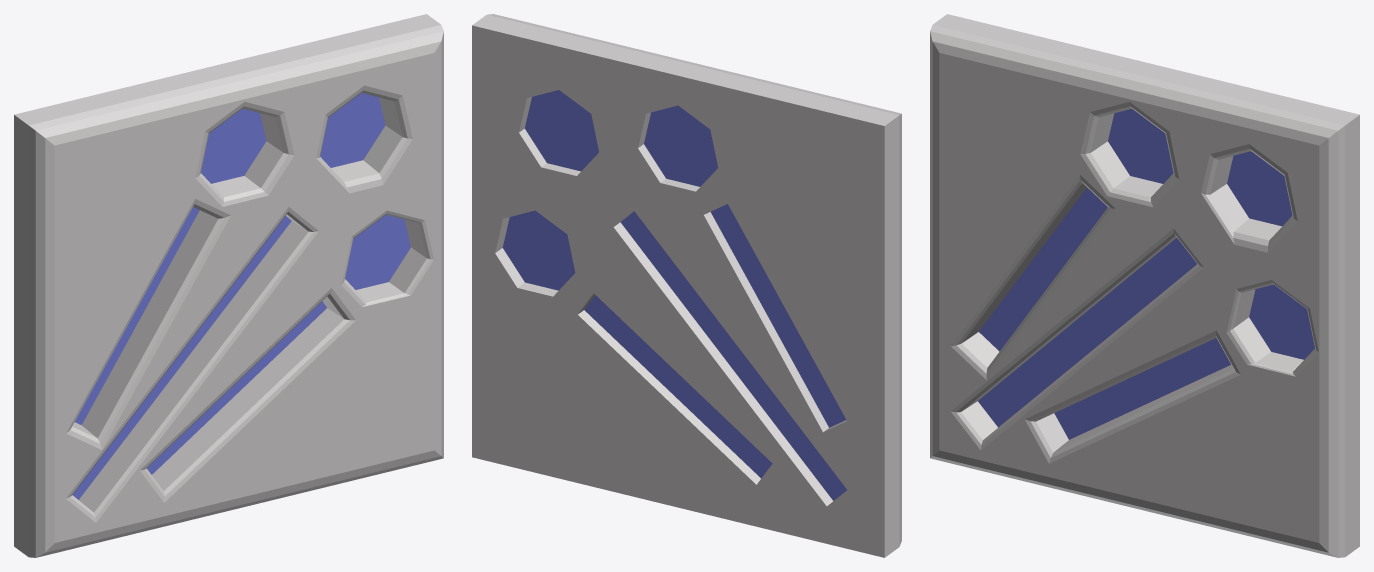
The model's file is Attack02.fbx.
3 renders of one model, left to right at view 1: azimuth 30°, elevation 25°; view 2: azimuth 150°, elevation 25°; view 3: azimuth 330°, elevation 25°, orthographic.
Visible parts, largest first — view 1: Attack02; view 2: Attack02; view 3: Attack02.
Part boxes in pixels (x1,y1,x2,y2): Attack02: (14, 14, 443, 557); Attack02: (472, 14, 901, 557); Attack02: (930, 14, 1359, 557).
Size of the model in its own units: 200 by 200 by 20.35.
